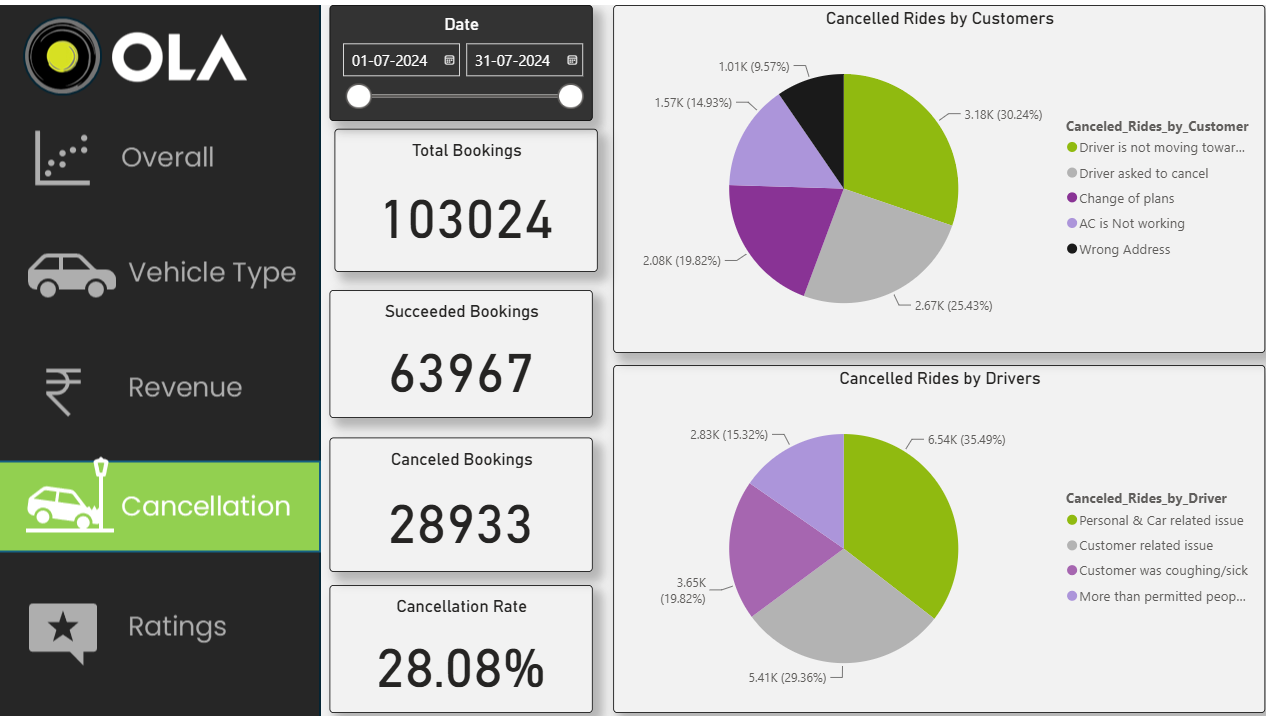

Layout of this report page (visuals, bound fields, positions):
{"tool":"powerbi","page":{"name":"Cancellation","canvas":[1280,720],"ordinal":3},"visuals":[{"type":"pieChart","title":"Canceled Ride By Customers","fields":{"Y":["CountNonNull(July.Booking_Status)"],"Category":["July.Canceled_Rides_by_Customer"]},"box":[639.4,8.9,621.7,339.6],"z":0},{"type":"pieChart","title":"Canceled Rides By Drivers","fields":{"Category":["July.Canceled_Rides_by_Driver"],"Y":["CountNonNull(July.Canceled_Rides_by_Driver)"]},"box":[637.9,369.2,623.2,341.1],"z":1000},{"type":"slicer","title":"Date","fields":{"Values":["July.Date"]},"box":[335.2,8.9,292.4,128],"z":2000},{"type":"card","title":"Success Bookings","fields":{"Values":["Count(July.Booking_ID)"]},"box":[335.1,291.9,291.9,129.7],"z":3000},{"type":"card","title":"Total Bookings","fields":{"Values":["Count(July.Booking_ID)"]},"box":[335.2,146.2,292.4,130],"z":4000},{"type":"card","title":"Canceled Bookings","fields":{"Values":["Count(July.Booking_ID)"]},"box":[335.1,437.1,291.9,129.7],"z":5000},{"type":"card","title":"Cancellation Rate","box":[335.1,580.7,291.9,129.7],"z":7000},{"type":"actionButton","box":[0,211.4,327.1,107.1],"z":7001},{"type":"actionButton","box":[0,330,327.1,107.1],"z":7002},{"type":"actionButton","box":[0,580,327.1,107.1],"z":7003},{"type":"actionButton","box":[0,101.4,327.1,107.1],"z":7004}]}

Visuals, with their boxes on the page's 1280x720 design canvas (x1, y1, x2, y2). These are canvas units, not pixel positions in the 1266x716 screenshot, which may show the page scaled, cropped or inside an application window:
"Canceled Ride By Customers" pieChart: 639/9/1261/348
"Canceled Rides By Drivers" pieChart: 638/369/1261/710
"Date" slicer: 335/9/628/137
"Success Bookings" card: 335/292/627/422
"Total Bookings" card: 335/146/628/276
"Canceled Bookings" card: 335/437/627/567
"Cancellation Rate" card: 335/581/627/710
actionButton: 0/211/327/318
actionButton: 0/330/327/437
actionButton: 0/580/327/687
actionButton: 0/101/327/208
